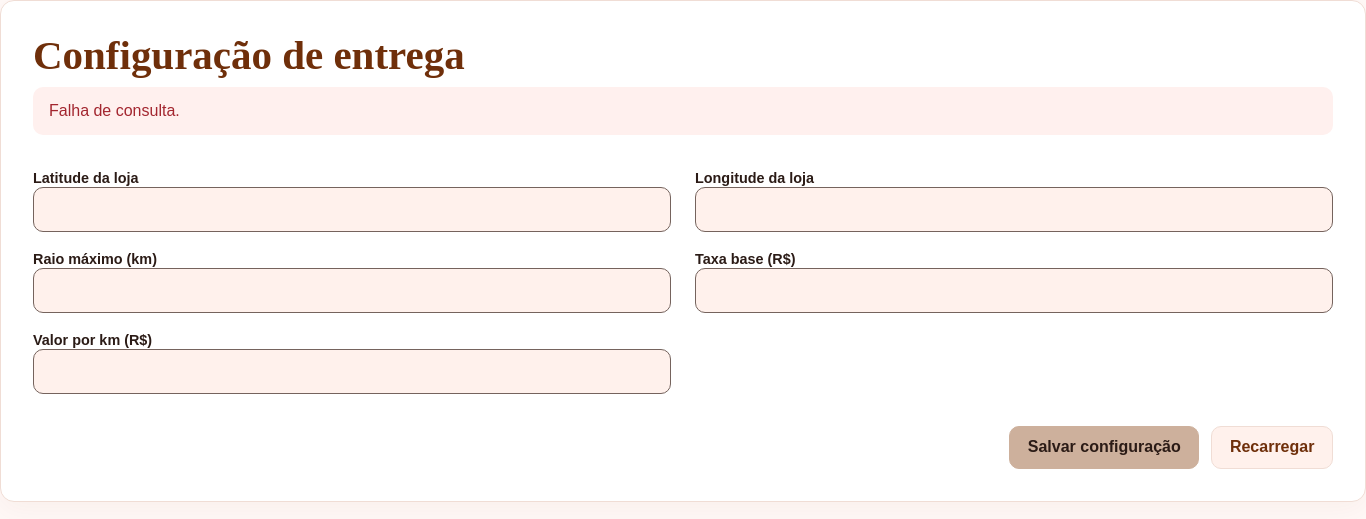
Scenario: falha de consulta mostra erro e retry sem apresentar estado vazio
expect the message reads "Falha de consulta.": met, box [49, 102, 180, 119]
expect the field labelled "Latitude da loja" is disabled: met, box [33, 187, 671, 232]
Submit the form named "Salvar configuração"
Click the button "Recarregar". click: (1272, 447)
box: [1211, 426, 1333, 469]
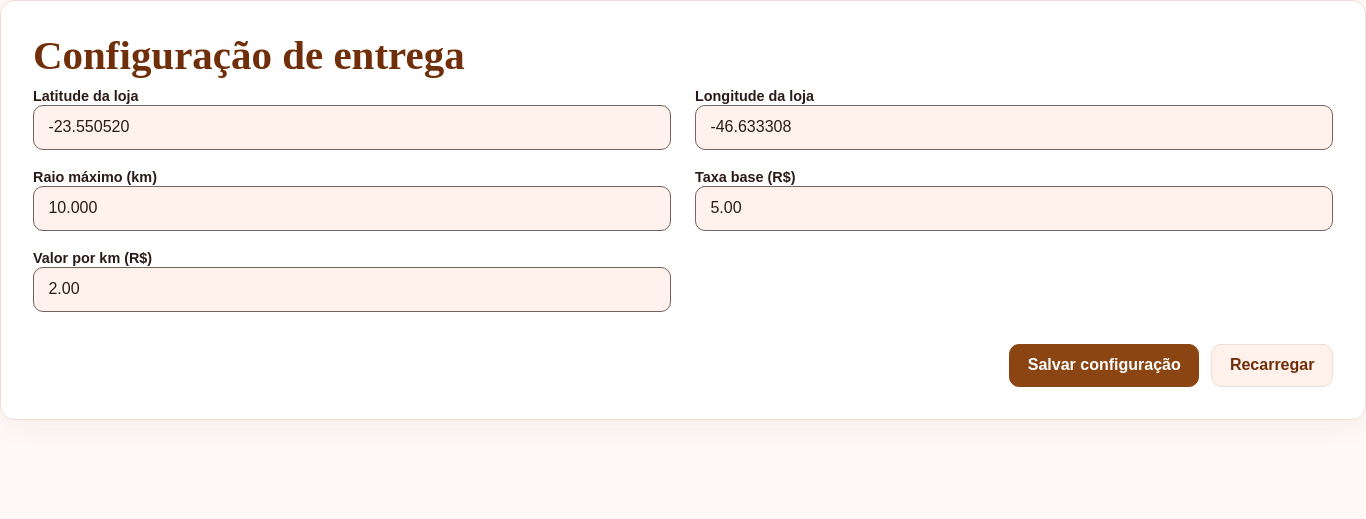
expect the field labelled "Latitude da loja" holds "-23.550520": met, box [33, 105, 671, 150]
expect the message "Falha de consulta." is gone: met
expect the field labelled "Latitude da loja" is enabled: met, box [33, 105, 671, 150]
